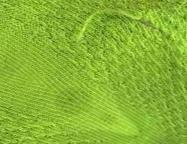snag: (71, 6, 145, 47)
